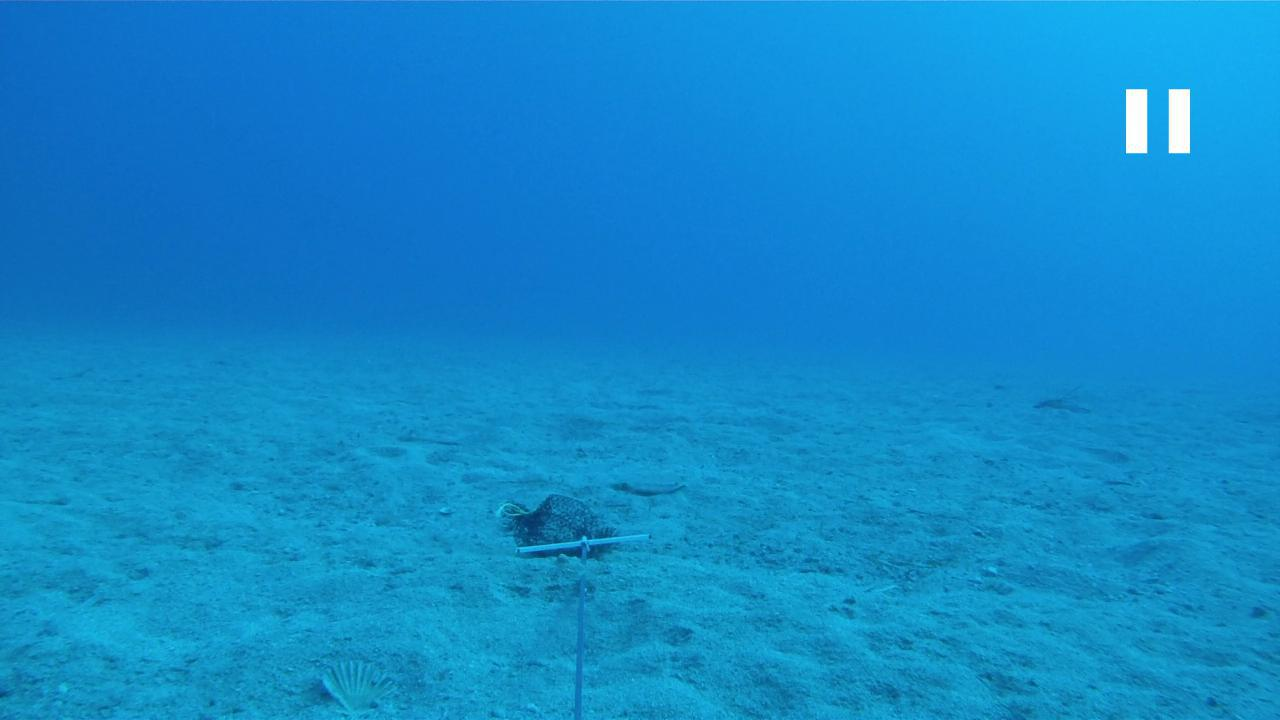bothus: (608, 470, 686, 498)
